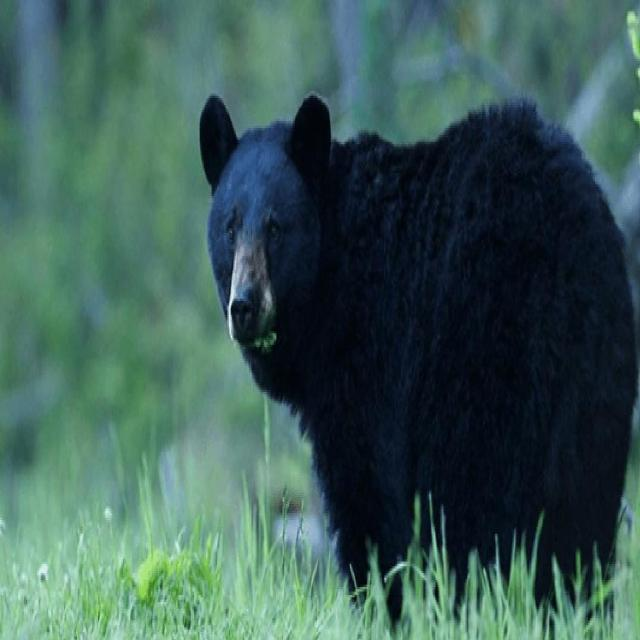Bear: (197, 95, 638, 608)
